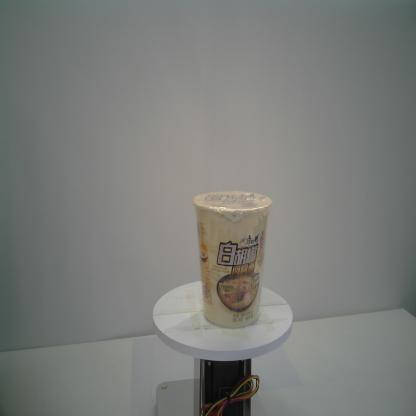Instant Noodles: (190, 191, 274, 331)
